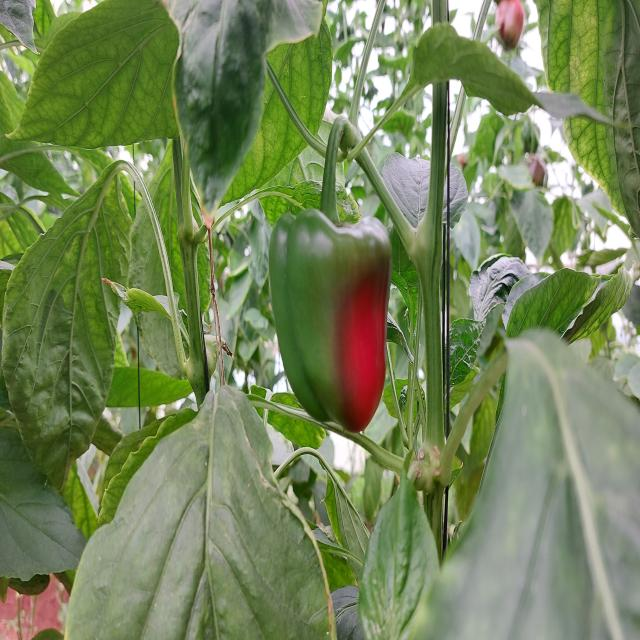BrownishRed--Can-be-Harvested: (272, 209, 391, 440)
